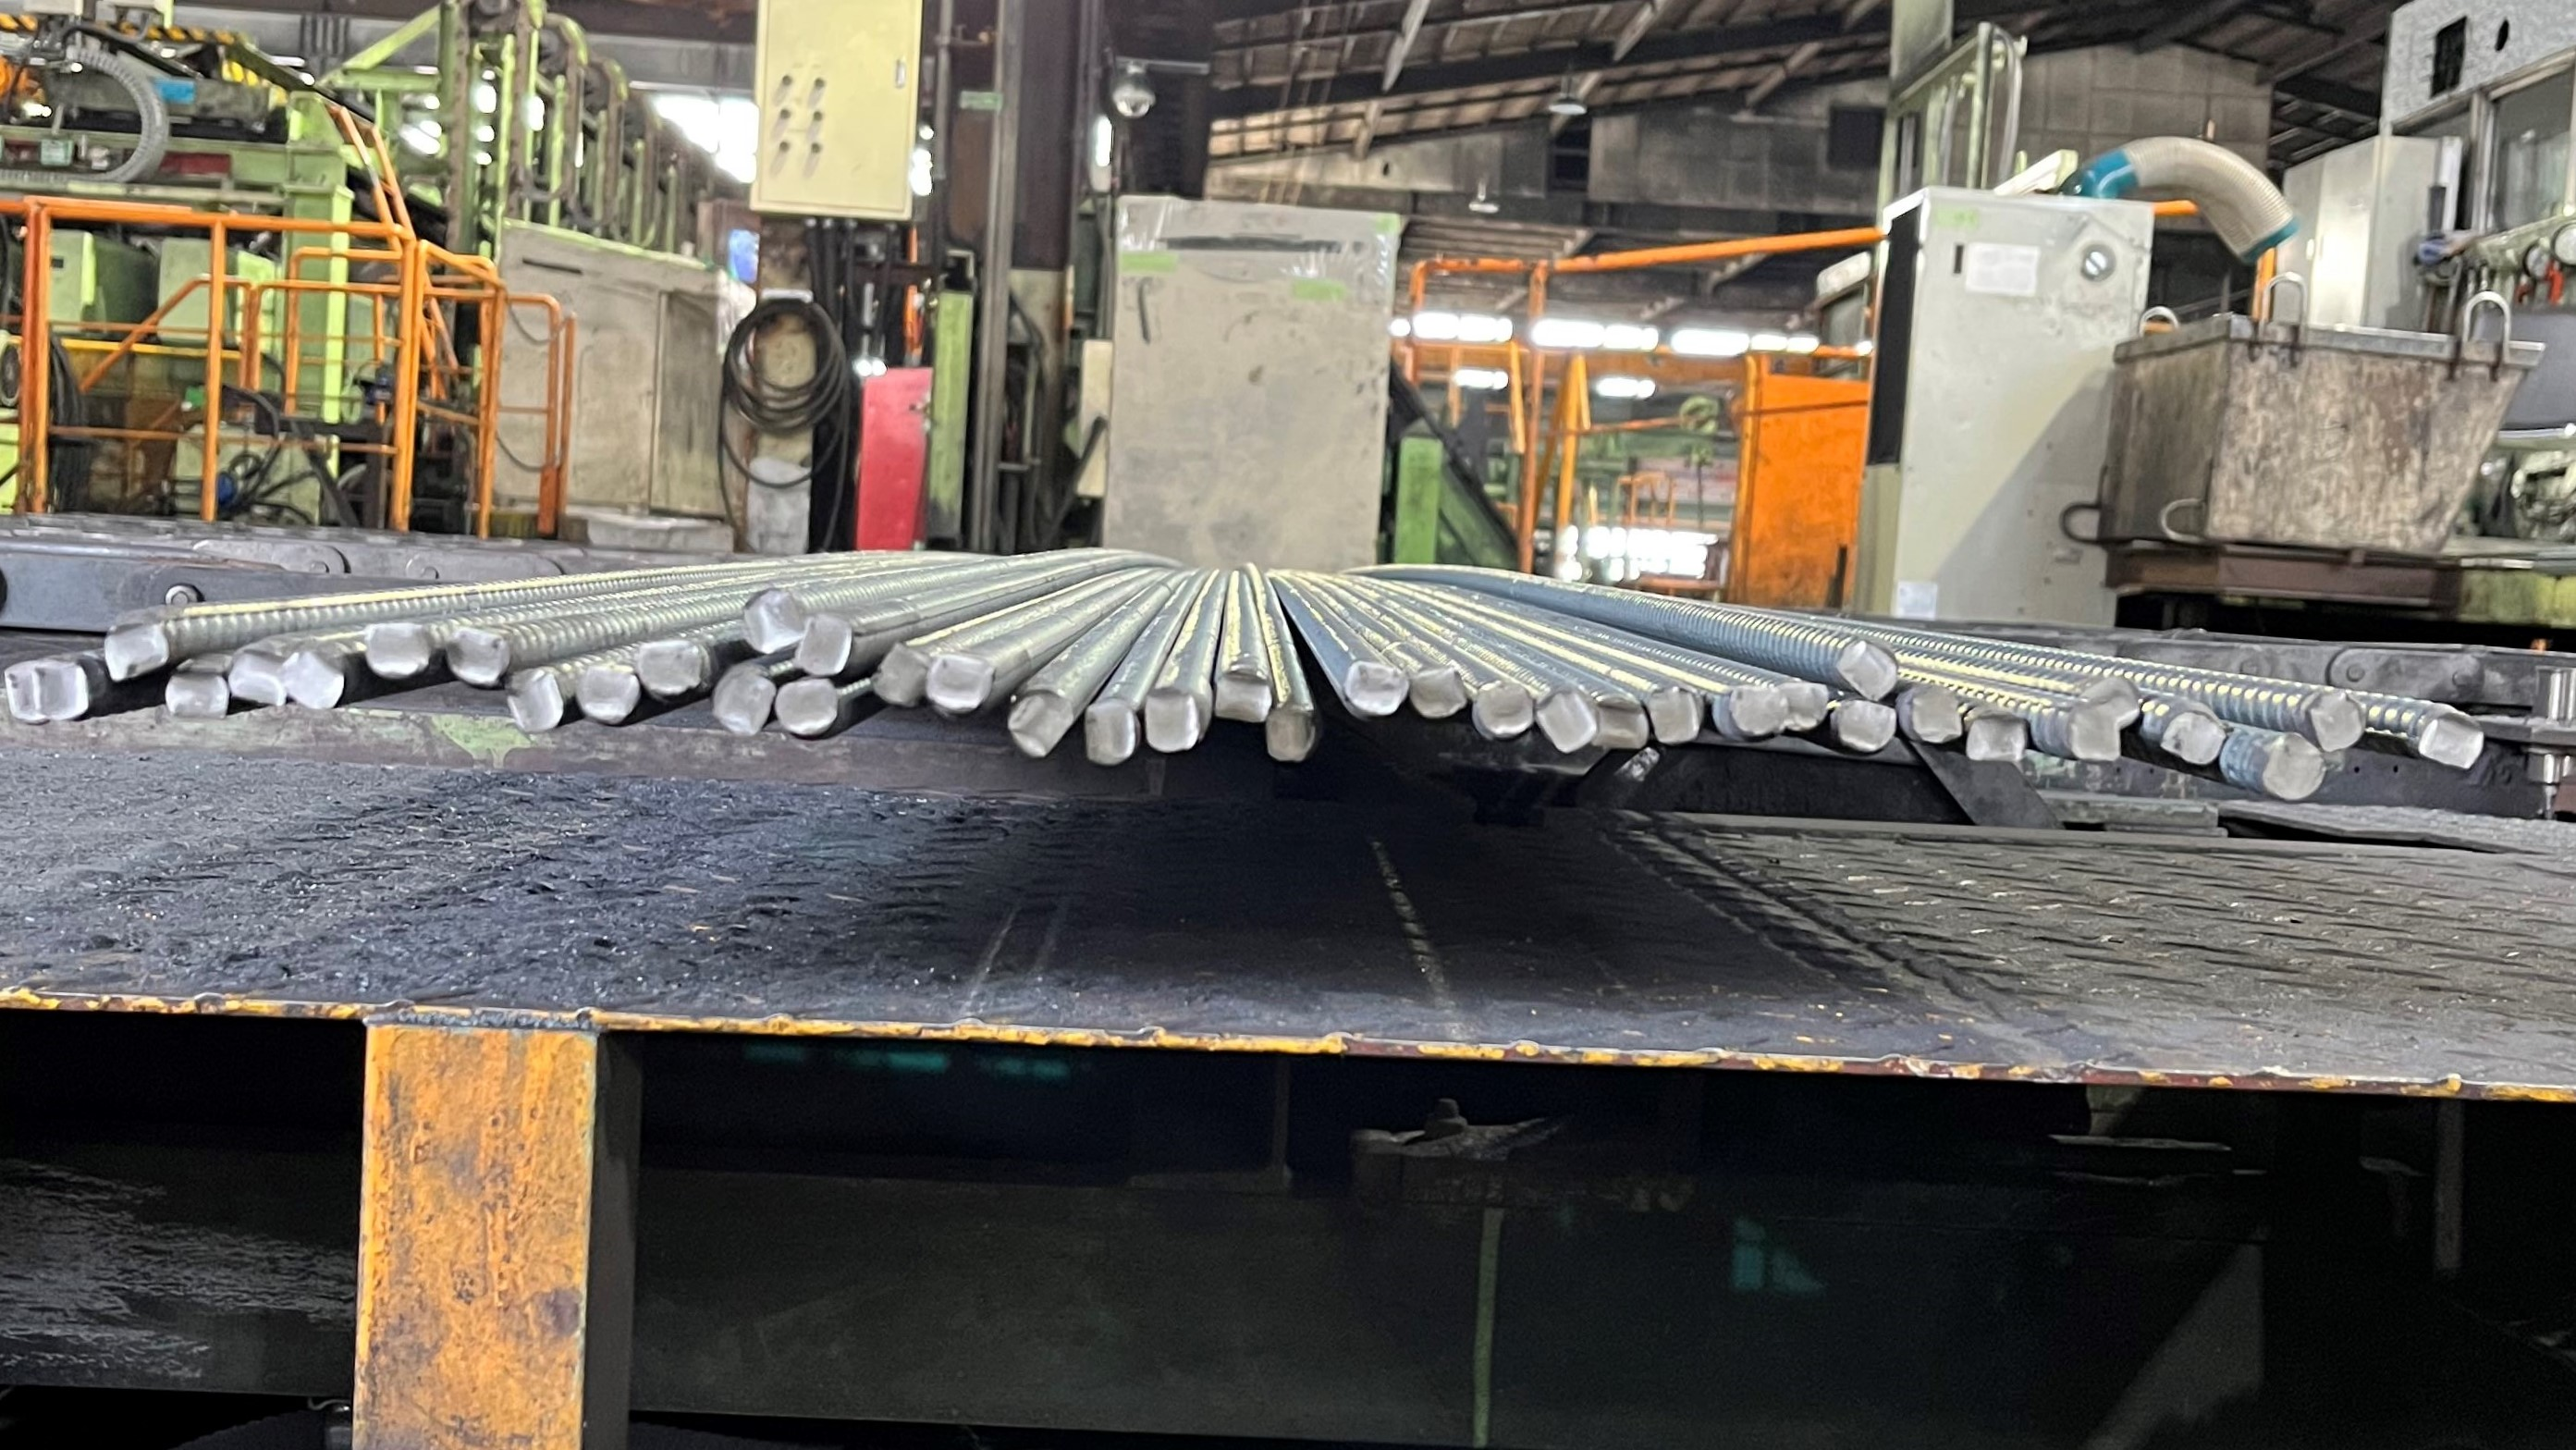rod: (101, 614, 173, 687), (1003, 683, 1076, 756), (633, 636, 711, 703), (2259, 729, 2328, 804), (276, 648, 350, 713), (734, 586, 803, 655), (2415, 708, 2488, 774), (925, 648, 998, 712), (2153, 706, 2229, 767), (575, 660, 642, 726), (708, 669, 773, 735), (1536, 685, 1599, 752), (1143, 683, 1205, 752), (363, 620, 433, 680), (446, 625, 510, 690), (869, 641, 931, 708), (2307, 687, 2369, 754), (508, 666, 568, 735), (773, 676, 842, 737), (1840, 636, 1898, 706), (791, 613, 851, 678), (1343, 660, 1412, 717), (2068, 698, 2125, 767), (228, 646, 290, 708), (1711, 689, 1790, 737), (1474, 678, 1536, 738), (2079, 675, 2144, 731), (161, 667, 230, 721), (32, 660, 92, 721), (1589, 692, 1651, 751), (1086, 699, 1141, 765), (1647, 682, 1702, 747), (1964, 712, 2031, 765), (1907, 683, 1964, 745), (1214, 669, 1272, 726), (1776, 678, 1831, 738), (1836, 701, 1900, 752), (1410, 669, 1468, 719), (1263, 708, 1315, 763), (4, 660, 35, 728)
